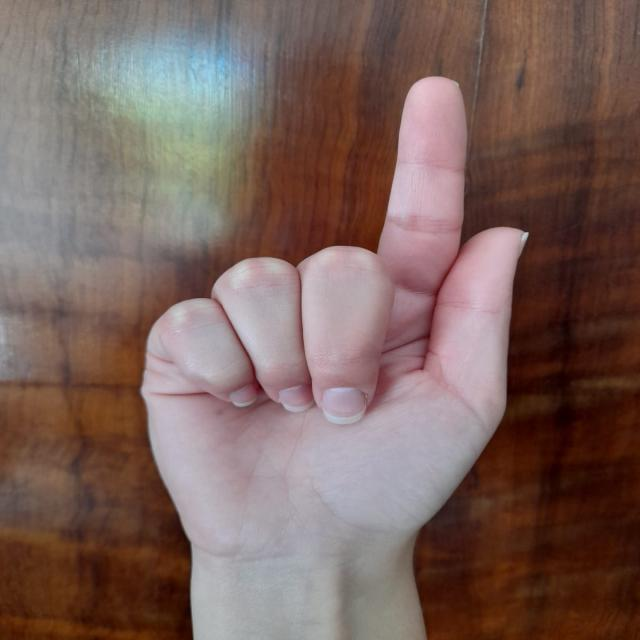G: (131, 64, 536, 538)
